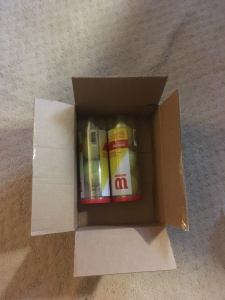innerbox: (73, 104, 165, 227)
outerbox: (33, 78, 187, 269)
product: (79, 116, 142, 202)
